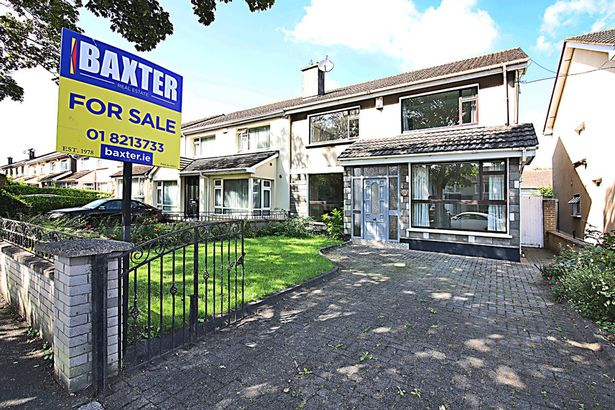property sign: (49, 22, 191, 176)
